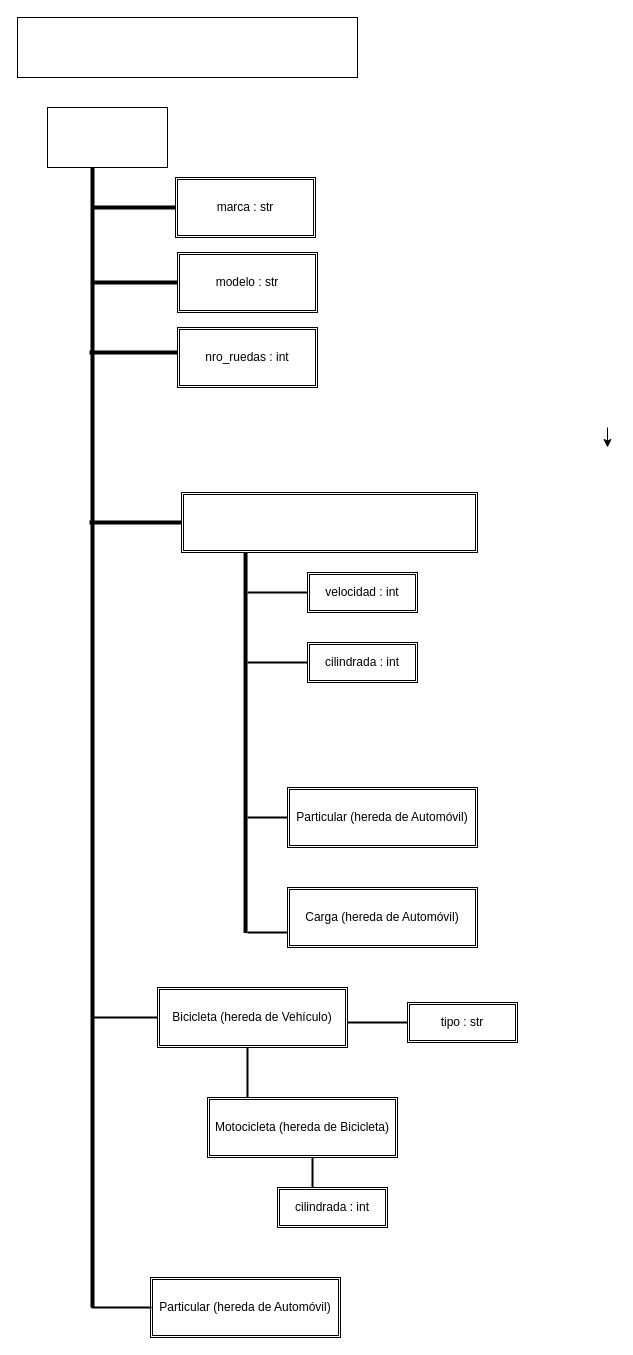
This 633x1355 diagram has some shape labels left out. The shapes that lost their labels are listed below. From the top down, each one's centre as x and y in pixels, then its label:
point (187, 47): DIAGRAMA DE CLASES 1
point (107, 137): Vehiculo
point (329, 522): Automóvil (hereda de Vehículo)
